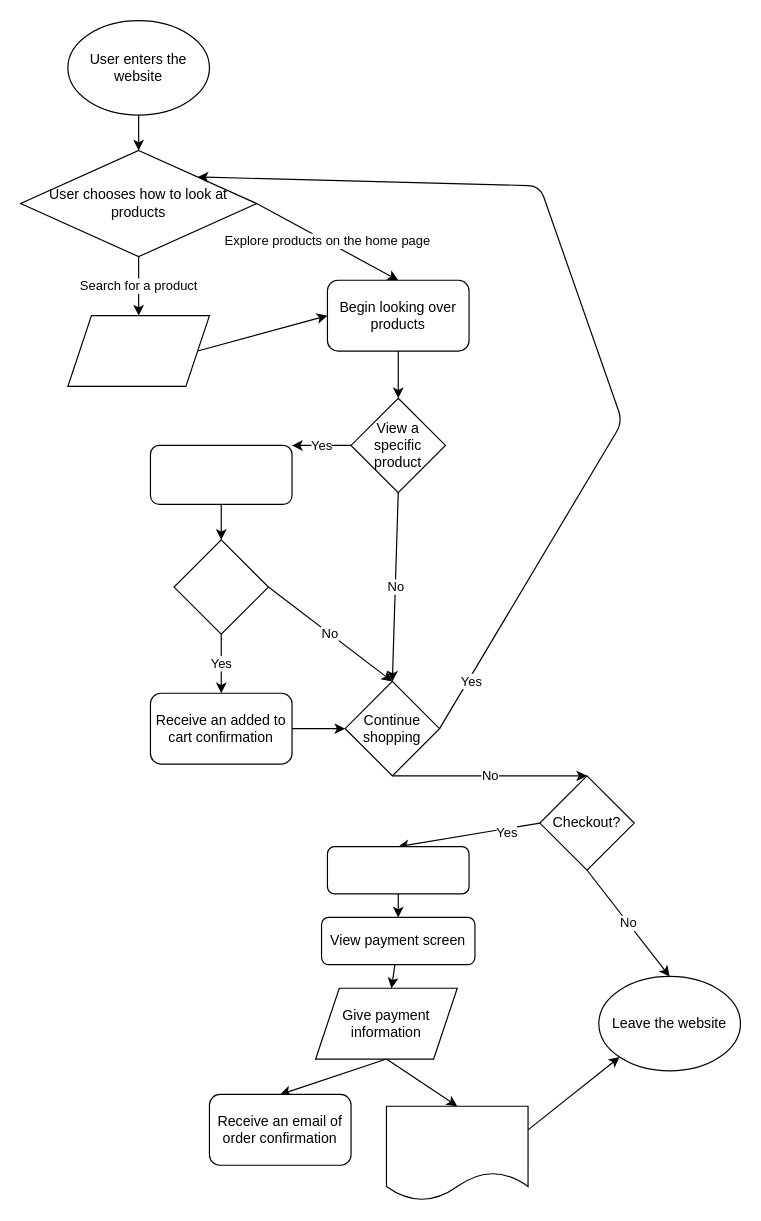
This 761x1221 diagram has some shape labels left out. The centre of each missing label's shape, as x and y in pixels:
"Add to cart" goes at point (220, 586).
"Order confirmation screen" goes at point (456, 1153).
"Product's webpage opens" goes at point (220, 474).
"Provide input to website for their search" goes at point (138, 350).
"View cart screen" goes at point (397, 869).
